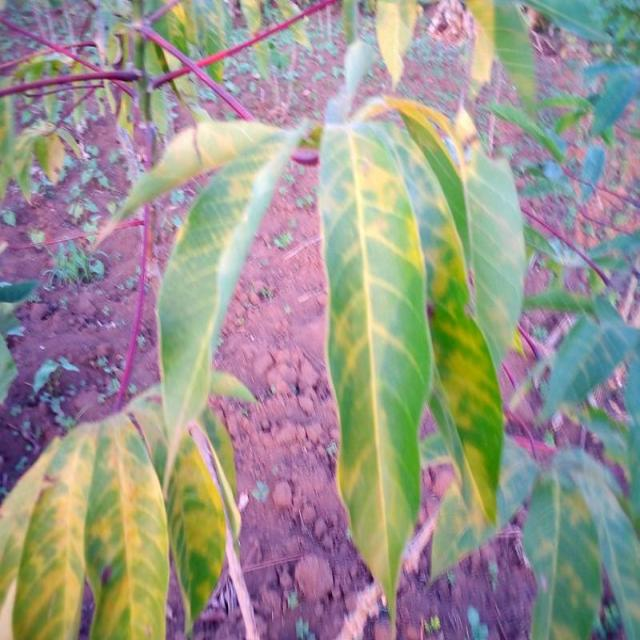cassava leaf: (316, 115, 434, 636), (154, 123, 296, 446)
